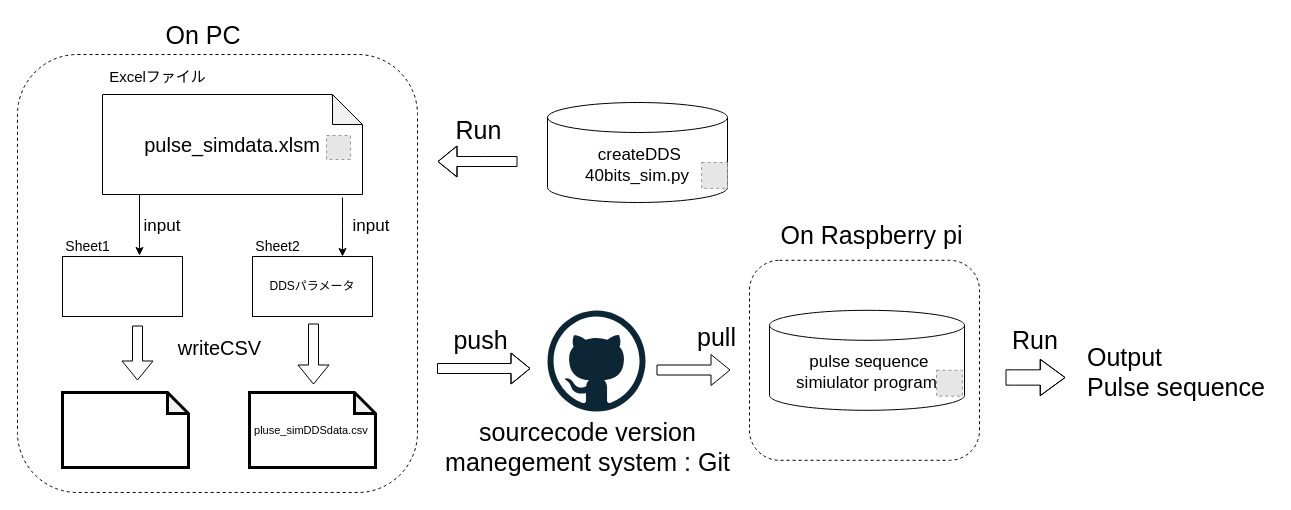
Image size: 1291x510. Some labels were removed from this diagram. Grey dashed boxes stand in for pictures. The shapes that lost their labels are listed below. From the top down, each one's centre as x and y in pixels, then its label:
At (122,286): "Pulseパラメータ".
At (125,429): "pluse_simdata.csv".
